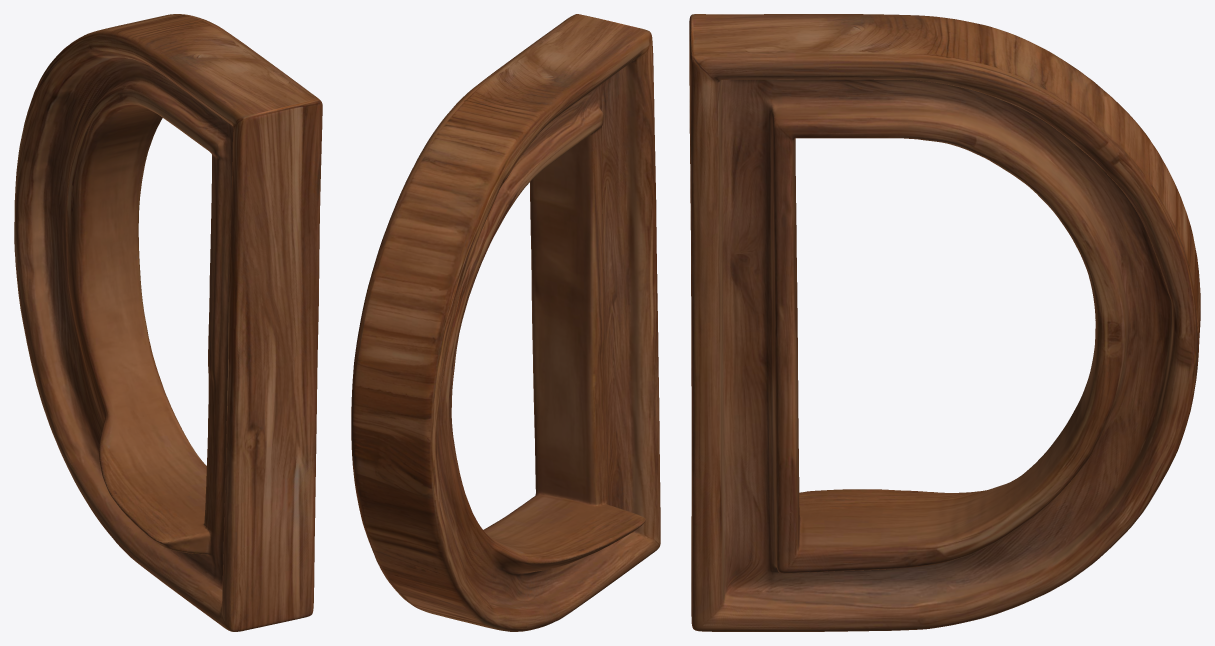
The model's file is d-window-frame.glb.
The picture shows the model from 3 angles, left to right: view 1: azimuth 30°, elevation 25°; view 2: azimuth 150°, elevation 25°; view 3: azimuth 270°, elevation 25°; orthographic projection. The views are drawn at different scales.
Parts seen in each view (by area): view 1: tripo_node_d5cf0c24-2123-4f4a-b578-813bc86847bc; view 2: tripo_node_d5cf0c24-2123-4f4a-b578-813bc86847bc; view 3: tripo_node_d5cf0c24-2123-4f4a-b578-813bc86847bc.
Boxes of the visible parts, <box> form: tripo_node_d5cf0c24-2123-4f4a-b578-813bc86847bc: <box>14,14,322,631</box>; tripo_node_d5cf0c24-2123-4f4a-b578-813bc86847bc: <box>351,14,660,631</box>; tripo_node_d5cf0c24-2123-4f4a-b578-813bc86847bc: <box>689,14,1200,631</box>.
Bounding box in the file's own units: 0.2382 × 0.9489 × 0.7549.
Materials: 1 (1 with a texture image).
